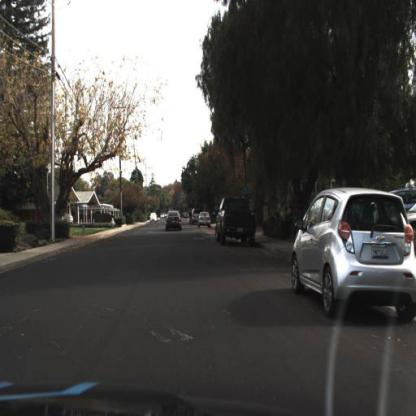biker: (187, 206, 194, 233)
car: (290, 185, 416, 326), (216, 191, 258, 259), (162, 207, 184, 237), (195, 208, 213, 235)
